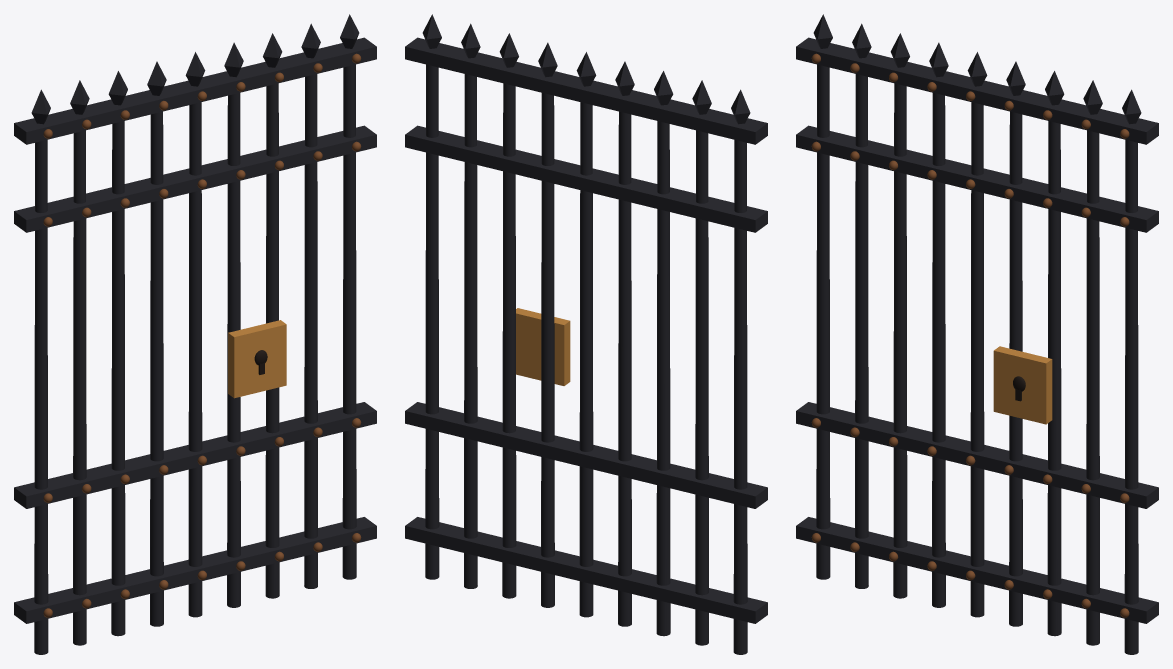
The model's file is mia-iron_gate.glb.
3 renders of one model, left to right at view 1: azimuth 30°, elevation 25°; view 2: azimuth 150°, elevation 25°; view 3: azimuth 330°, elevation 25°, orthographic.
Visible parts, largest first — view 1: Body_iron, Body_brass, Body_rust; view 2: Body_iron, Body_brass; view 3: Body_iron, Body_brass, Body_rust.
Part boxes in pixels (x1=…): Body_iron: x1=14, y1=14, x2=376, y2=654; Body_brass: x1=228, y1=320, x2=286, y2=398; Body_rust: x1=43, y1=53, x2=361, y2=617; Body_iron: x1=405, y1=14, x2=767, y2=654; Body_brass: x1=516, y1=308, x2=570, y2=385; Body_iron: x1=796, y1=14, x2=1158, y2=654; Body_brass: x1=993, y1=346, x2=1052, y2=424; Body_rust: x1=811, y1=53, x2=1129, y2=617.
Size of the model in its own units: 1.5 by 2.3 by 0.147.
